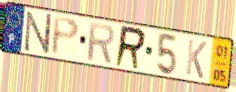5: (155, 32, 178, 77)
K: (184, 37, 209, 81)
N: (23, 10, 53, 56)
P: (50, 15, 81, 58)
R: (113, 24, 148, 72), (86, 21, 116, 66)
